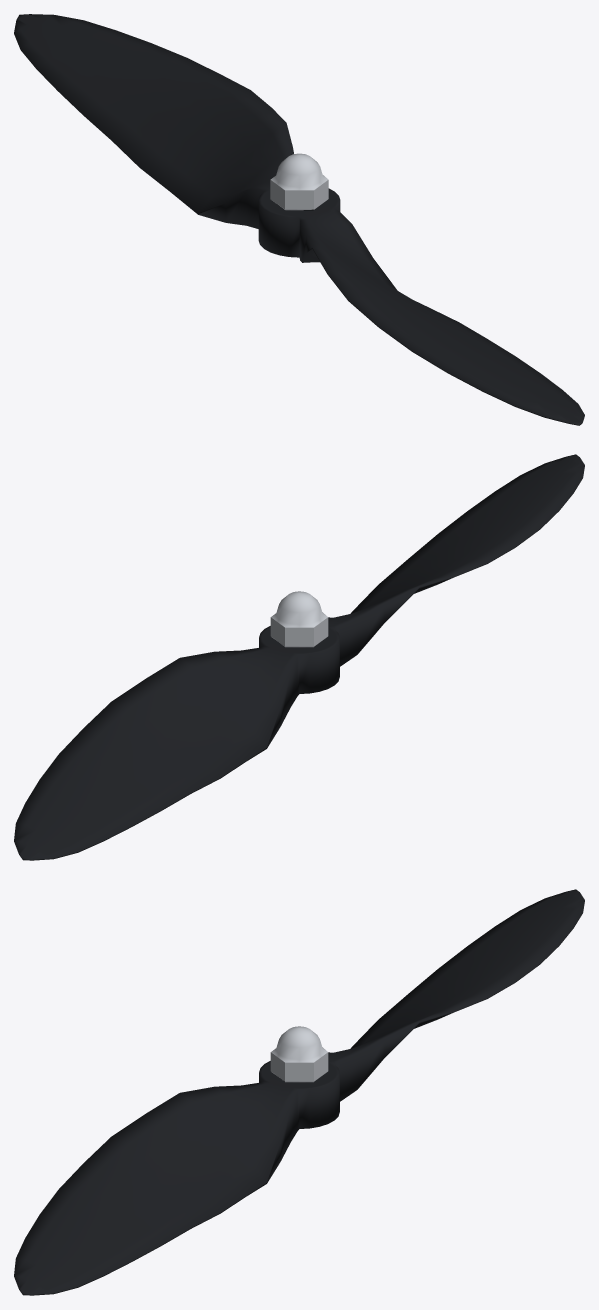
Rendered from Gemfan_7040.fbx.
The picture shows the model from 3 angles, top to bottom: view 1: azimuth 30°, elevation 25°; view 2: azimuth 150°, elevation 25°; view 3: azimuth 330°, elevation 25°; orthographic projection.
Parts seen in each view (by area): view 1: R3_PROP_Gemfan_7040, R3_NUT_Gemfan_7040; view 2: R3_PROP_Gemfan_7040, R3_NUT_Gemfan_7040; view 3: R3_PROP_Gemfan_7040, R3_NUT_Gemfan_7040.
Boxes of the visible parts, left/top/right/bottom form: R3_PROP_Gemfan_7040: left=14, top=14, right=584, bottom=425; R3_NUT_Gemfan_7040: left=270, top=153, right=328, bottom=210; R3_PROP_Gemfan_7040: left=14, top=454, right=584, bottom=860; R3_NUT_Gemfan_7040: left=270, top=591, right=328, bottom=647; R3_PROP_Gemfan_7040: left=14, top=889, right=584, bottom=1295; R3_NUT_Gemfan_7040: left=270, top=1026, right=328, bottom=1082.
Size of the model in its own units: 0.026 by 0.0175 by 0.1778.
Materials: 1 (1 with a texture image).
